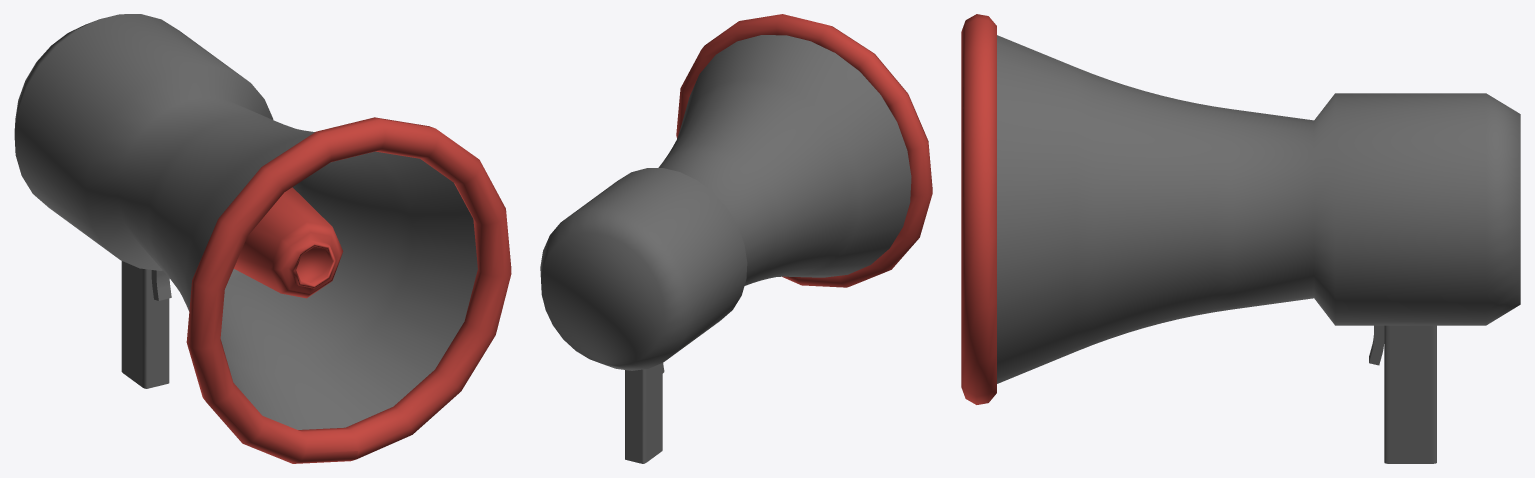
File: Megaphones.glb
The picture shows the model from 3 angles, left to right: view 1: azimuth 30°, elevation 25°; view 2: azimuth 150°, elevation 25°; view 3: azimuth 270°, elevation 25°; orthographic projection. The views are drawn at different scales.
Parts seen in each view (by area): view 1: Outer Lathe, Torus, Inner Lathe, Cube, Spline 2D; view 2: Outer Lathe, Torus, Cube; view 3: Outer Lathe, Torus, Cube.
Boxes of the visible parts, x1,y1,x2,y2 form: Outer Lathe: (14, 14, 477, 429); Torus: (186, 117, 511, 463); Inner Lathe: (234, 187, 343, 298); Cube: (121, 261, 169, 388); Spline 2D: (151, 270, 171, 300); Outer Lathe: (540, 35, 911, 370); Torus: (676, 14, 932, 287); Cube: (625, 363, 662, 463); Outer Lathe: (997, 35, 1520, 383); Torus: (961, 14, 996, 404); Cube: (1384, 325, 1436, 463).
Size of the model in its own units: 0.3729 by 0.4451 by 0.5331.
